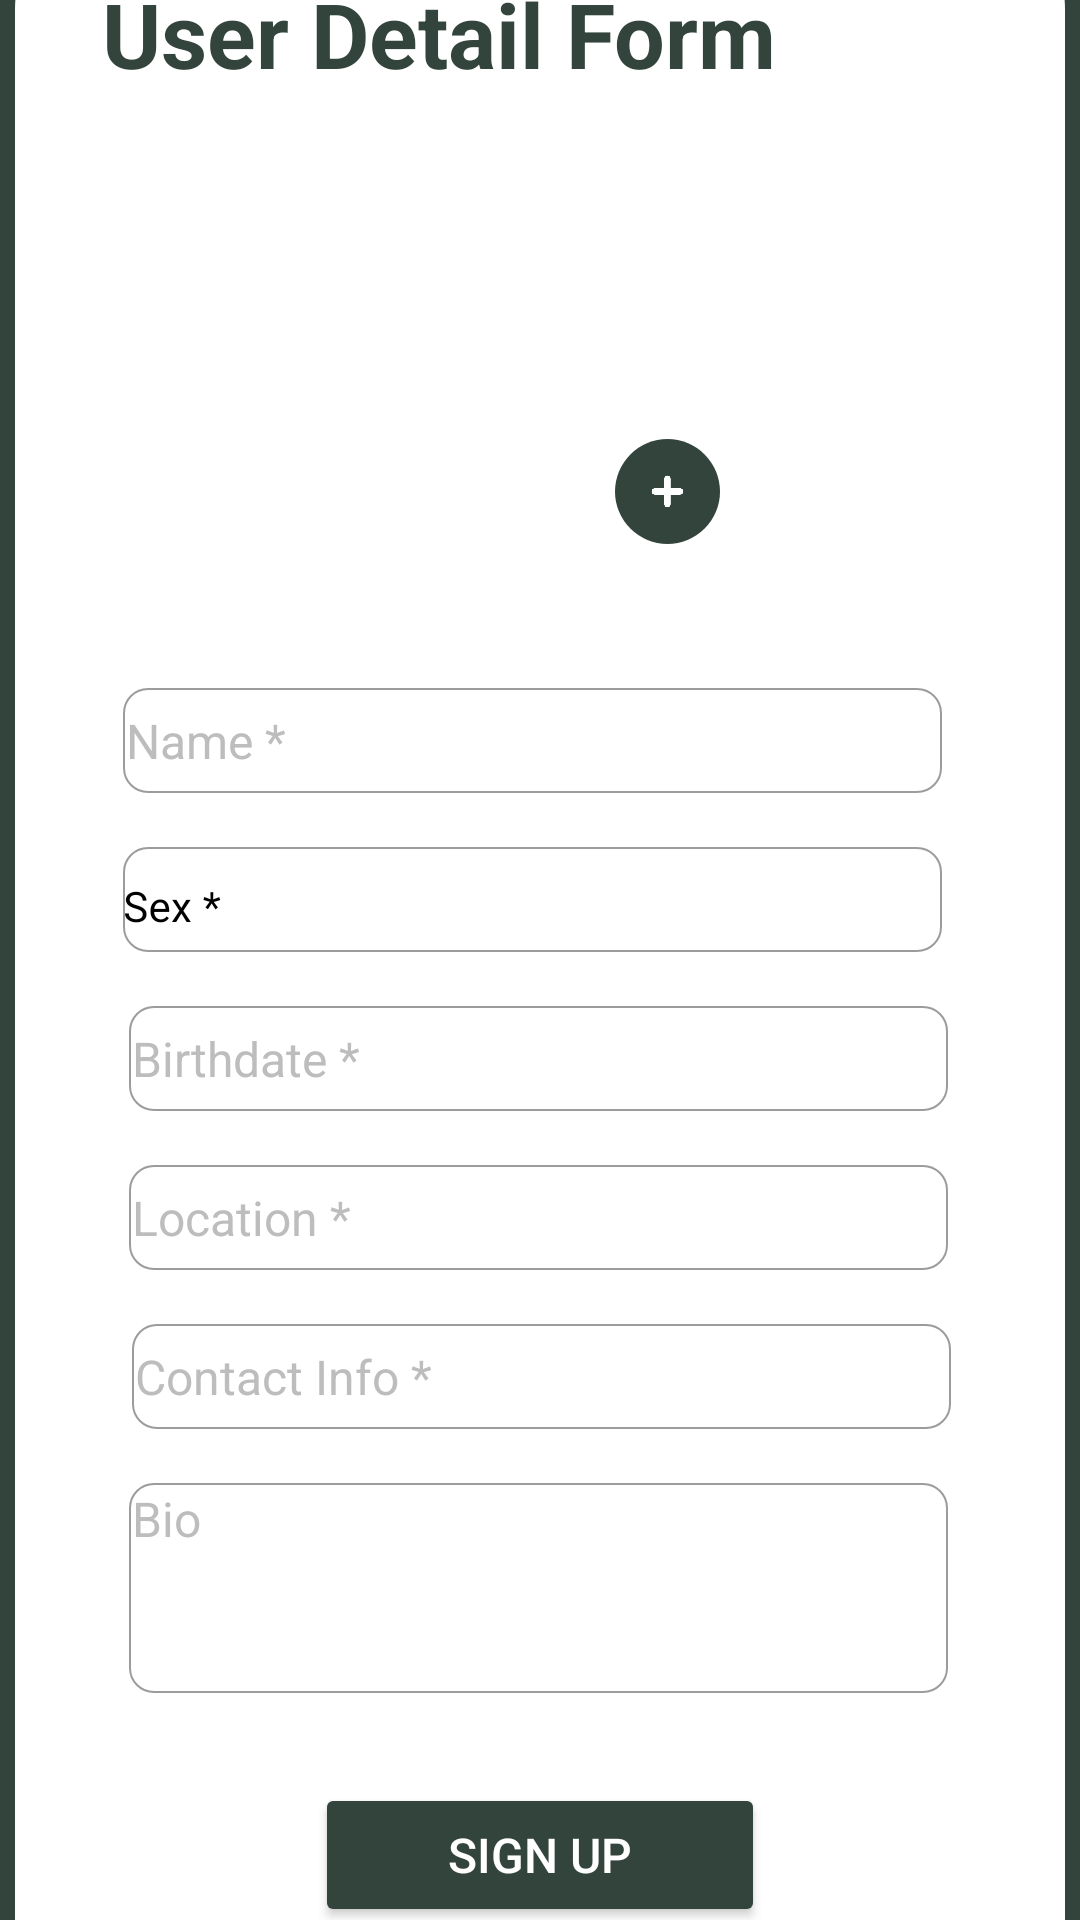

Icon bounding boxes for this 1080px×1920px phone screenshot, format (x1, y1, x2, y2):
add: (615, 439, 720, 544)
